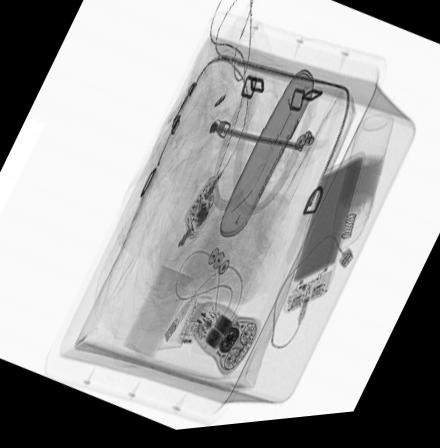Powerbank: (282, 159, 364, 320)
